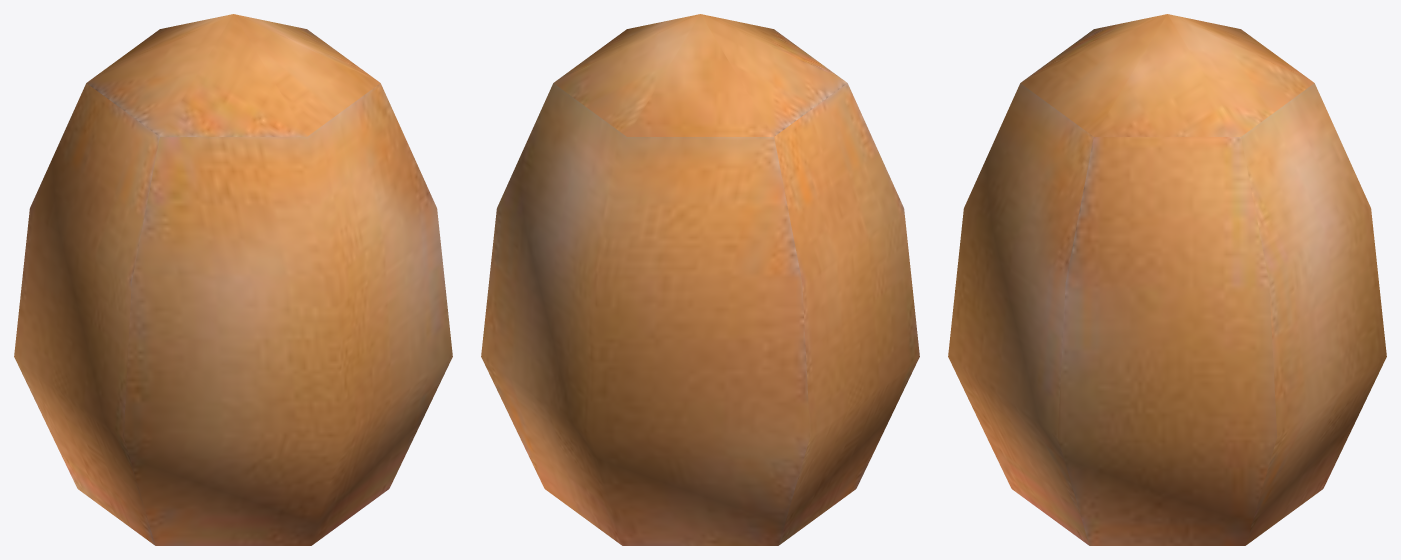
Rendered from Egg.glb.
The picture shows the model from 3 angles, left to right: view 1: azimuth 30°, elevation 25°; view 2: azimuth 150°, elevation 25°; view 3: azimuth 270°, elevation 25°; orthographic projection.
Visible parts, largest first — view 1: Egg; view 2: Egg; view 3: Egg.
Boxes of the visible parts, left/top/right/bottom form: Egg: left=14, top=14, right=452, bottom=545; Egg: left=481, top=14, right=919, bottom=545; Egg: left=948, top=14, right=1386, bottom=545.
Size of the model in its own units: 0.0616 by 0.0949 by 0.0711.
Materials: 1 (1 with a texture image).
